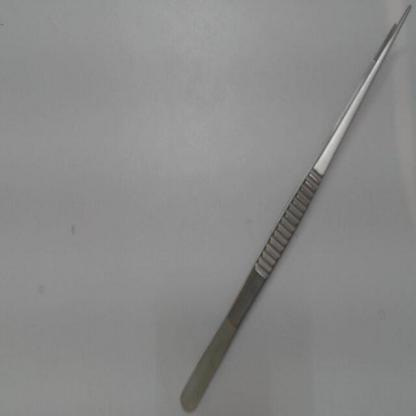DeBakey Dissector: (167, 3, 414, 410)
